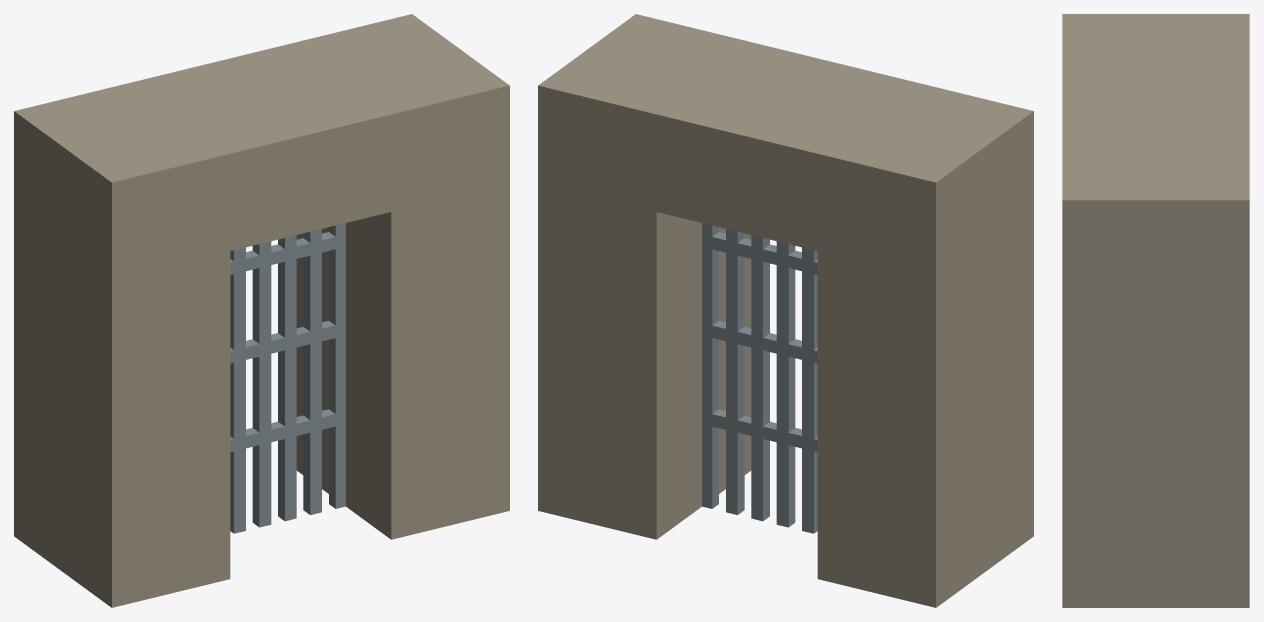
Rendered from b-gate-english.glb.
The picture shows the model from 3 angles, left to right: view 1: azimuth 30°, elevation 25°; view 2: azimuth 150°, elevation 25°; view 3: azimuth 270°, elevation 25°; orthographic projection. The views are drawn at different scales.
Visible parts, largest first — view 1: Structure, gatePanel; view 2: Structure, gatePanel; view 3: Structure.
Boxes of the visible parts, <box> form: Structure: <box>14,14,509,607</box>; gatePanel: <box>230,223,345,533</box>; Structure: <box>538,14,1033,607</box>; gatePanel: <box>702,223,817,533</box>; Structure: <box>1062,14,1249,607</box>.
Size of the model in its own units: 4.7 by 4.8 by 2.
